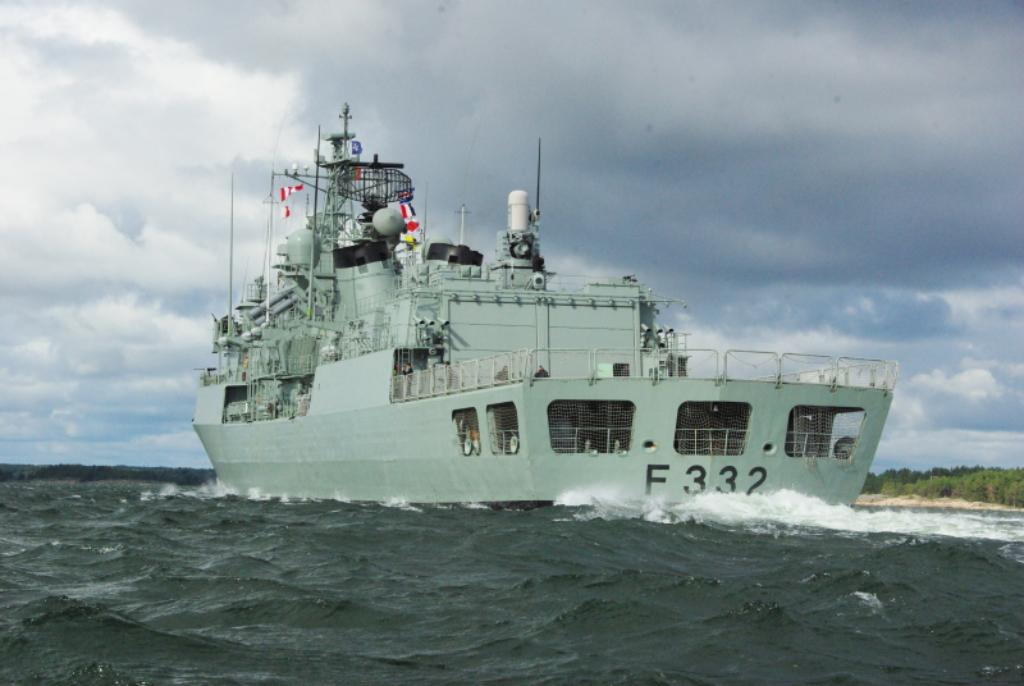Warship: (183, 92, 901, 512)
